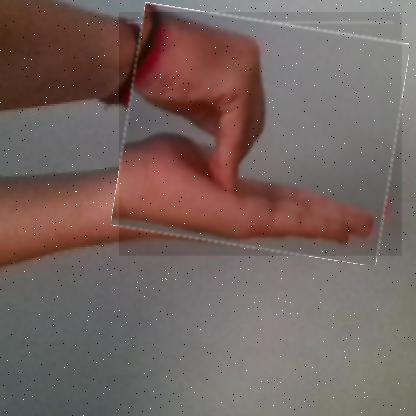Z: (119, 12, 403, 257)
